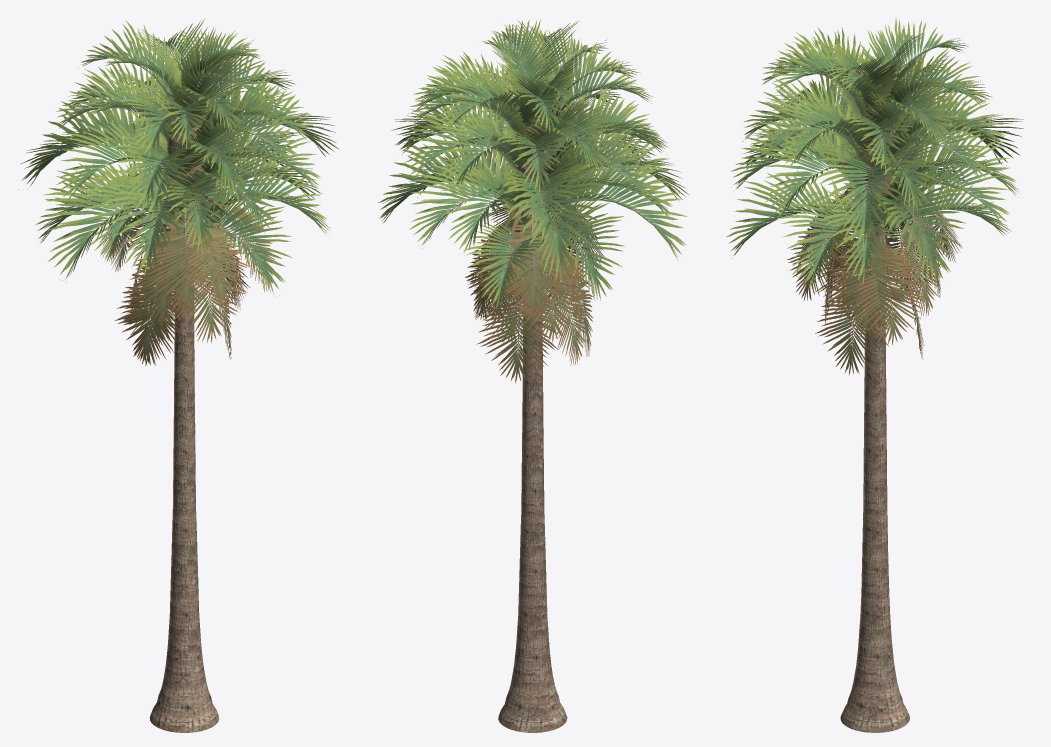
File: realpalmfar.glb
3 views of the same model, side by side, from view 1: azimuth 30°, elevation 25°; view 2: azimuth 150°, elevation 25°; view 3: azimuth 270°, elevation 25° (orthographic).
Visible parts, largest first — view 1: Tree_1; view 2: Tree_1; view 3: Tree_1.
Part boxes in pixels (box(x1,y1,x2,y2)): Tree_1: box(18, 18, 339, 732); Tree_1: box(378, 19, 688, 732); Tree_1: box(726, 17, 1023, 732).
Size of the model in its own units: 3.51 by 8 by 3.31.
Materials: 2 (2 with a texture image).
